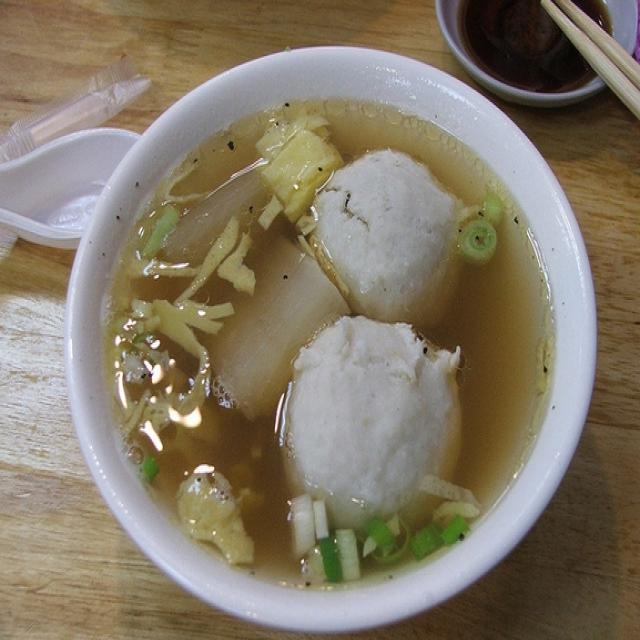熟制海鲜: (51, 50, 608, 621)
